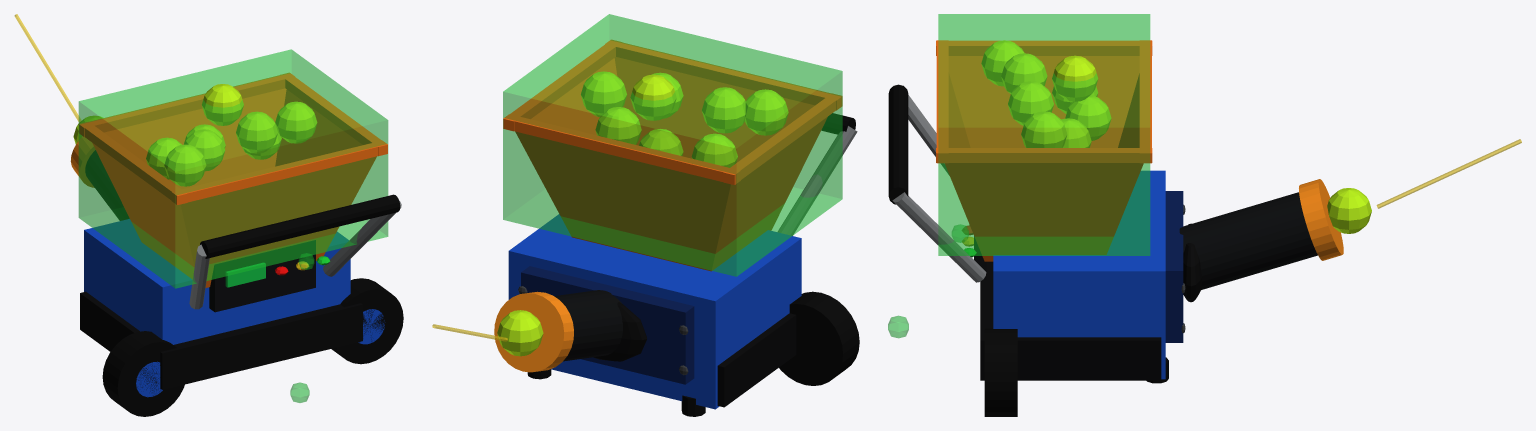
Rendered from tennis_ball_launcher_machine.obj.
The picture shows the model from 3 angles, left to right: view 1: azimuth 30°, elevation 25°; view 2: azimuth 150°, elevation 25°; view 3: azimuth 270°, elevation 25°; orthographic projection. The views are drawn at different scales.
Visible parts, largest first — view 1: Guide_Hopper_BallBin_Volume_delete_or_hide, Open_ball_hopper_bin_outer_tapered_bin_walls, Main_launcher_body_rounded_rect_approx, Black_lower_motor_housing, Rear_control_panel_slanted_face, Left_large_transport_wheel_tire, Rear_handle_grip_bar, Right_large_transport_wheel_tire, Open_ball_hopper_bin_back_top_rim, Open_ball_hopper_bin_front_top_rim, Open_ball_hopper_bin_left_top_rim, Open_ball_hopper_bin_right_top_rim (+14 smaller); view 2: Guide_Hopper_BallBin_Volume_delete_or_hide, Open_ball_hopper_bin_outer_tapered_bin_walls, Main_launcher_body_rounded_rect_approx, Front_launch_face_panel, Left_large_transport_wheel_tire, Black_lower_motor_housing, Bright_launch_barrel_muzzle_ring, Open_ball_hopper_bin_front_top_rim, Open_ball_hopper_bin_back_top_rim, Angled_launch_barrel_tube, Open_ball_hopper_bin_left_top_rim, Open_ball_hopper_bin_right_top_rim (+11 smaller); view 3: Guide_Hopper_BallBin_Volume_delete_or_hide, Open_ball_hopper_bin_outer_tapered_bin_walls, Main_launcher_body_rounded_rect_approx, Angled_launch_barrel_tube, Black_lower_motor_housing, Right_large_transport_wheel_tire, Open_ball_hopper_bin_right_top_rim, Front_launch_face_panel, Open_ball_hopper_bin_left_top_rim, Rear_handle_grip_bar, Bright_launch_barrel_muzzle_ring, Rear_right_handle_arm (+13 smaller).
Part boxes in pixels (x1,y1,x2,y2): Guide_Hopper_BallBin_Volume_delete_or_hide: [78, 49, 388, 288]; Open_ball_hopper_bin_outer_tapered_bin_walls: [92, 88, 376, 287]; Main_launcher_body_rounded_rect_approx: [84, 219, 350, 344]; Black_lower_motor_housing: [80, 291, 362, 389]; Rear_control_panel_slanted_face: [209, 240, 315, 312]; Left_large_transport_wheel_tire: [102, 331, 184, 416]; Rear_handle_grip_bar: [200, 194, 400, 258]; Right_large_transport_wheel_tire: [331, 278, 403, 364]; Open_ball_hopper_bin_back_top_rim: [171, 140, 387, 204]; Open_ball_hopper_bin_front_top_rim: [79, 73, 294, 136]; Open_ball_hopper_bin_left_top_rim: [82, 122, 187, 204]; Open_ball_hopper_bin_right_top_rim: [281, 73, 387, 156]; Guide_Hopper_BallBin_Volume_delete_or_hide: [503, 14, 842, 276]; Open_ball_hopper_bin_outer_tapered_bin_walls: [515, 57, 827, 271]; Main_launcher_body_rounded_rect_approx: [508, 214, 801, 409]; Front_launch_face_panel: [521, 266, 694, 384]; Left_large_transport_wheel_tire: [779, 291, 859, 385]; Black_lower_motor_housing: [717, 313, 796, 407]; Bright_launch_barrel_muzzle_ring: [494, 291, 573, 372]; Open_ball_hopper_bin_front_top_rim: [503, 114, 740, 184]; Open_ball_hopper_bin_back_top_rim: [605, 40, 842, 110]; Angled_launch_barrel_tube: [554, 290, 622, 361]; Open_ball_hopper_bin_left_top_rim: [723, 93, 841, 184]; Open_ball_hopper_bin_right_top_rim: [503, 41, 619, 131]; Guide_Hopper_BallBin_Volume_delete_or_hide: [938, 14, 1150, 255]; Open_ball_hopper_bin_outer_tapered_bin_walls: [945, 56, 1143, 261]; Main_launcher_body_rounded_rect_approx: [993, 170, 1165, 379]; Angled_launch_barrel_tube: [1179, 192, 1317, 289]; Black_lower_motor_housing: [980, 261, 1161, 380]; Right_large_transport_wheel_tire: [984, 328, 1017, 416]; Open_ball_hopper_bin_right_top_rim: [936, 148, 1152, 162]; Front_launch_face_panel: [1165, 191, 1183, 342]; Open_ball_hopper_bin_left_top_rim: [936, 40, 1152, 55]; Rear_handle_grip_bar: [888, 84, 908, 204]; Bright_launch_barrel_muzzle_ring: [1299, 179, 1343, 260]; Rear_right_handle_arm: [892, 192, 986, 282].
Size of what is drawn, in the model's own units: 1.64 by 1.5 by 2.87.
